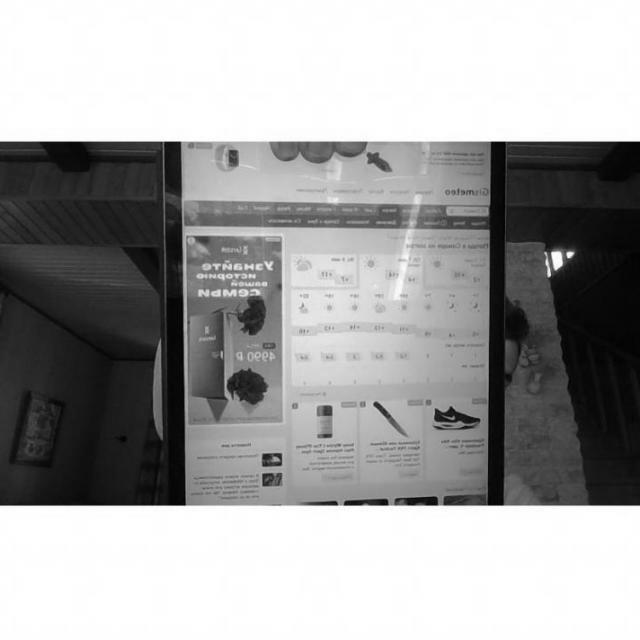fake: (165, 142, 510, 505)
